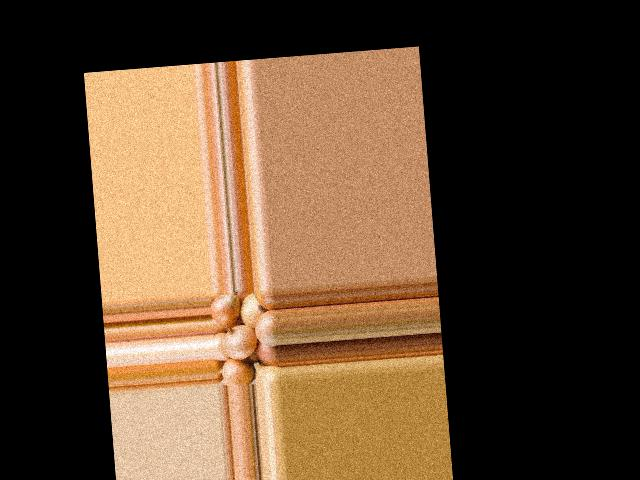onion: (213, 330, 231, 362)
